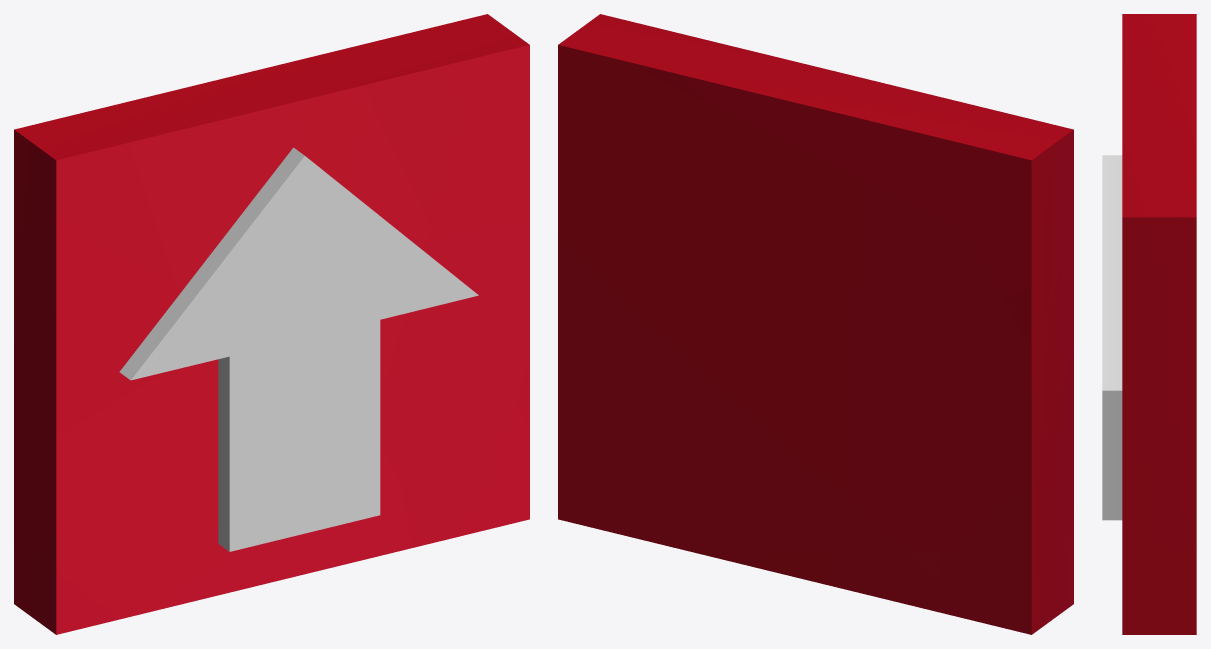
Rendered from 782b6d7e-9deb-4faa-b57e-a4eed6b3db82.glb.
The picture shows the model from 3 angles, left to right: view 1: azimuth 30°, elevation 25°; view 2: azimuth 150°, elevation 25°; view 3: azimuth 270°, elevation 25°; orthographic projection. The views are drawn at different scales.
Visible parts, largest first — view 1: arrowButtonSquareRed; view 2: arrowButtonSquareRed; view 3: arrowButtonSquareRed.
Part boxes in pixels (left/top/right/bottom): arrowButtonSquareRed: left=14, top=14, right=529, bottom=634; arrowButtonSquareRed: left=558, top=14, right=1073, bottom=634; arrowButtonSquareRed: left=1102, top=14, right=1196, bottom=634.
Size of what is drawn, in the model's own units: 0.2009 by 0.1924 by 0.0393.
1 material, 1 textured.
